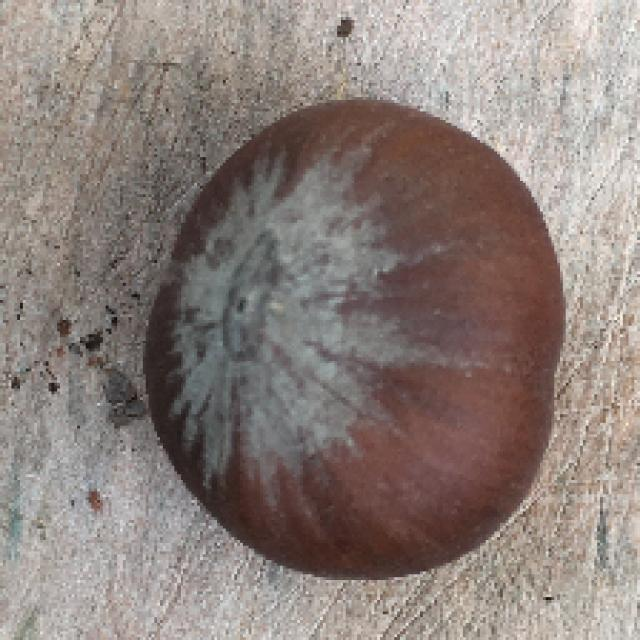qualityHazelnut: (145, 91, 570, 584)
